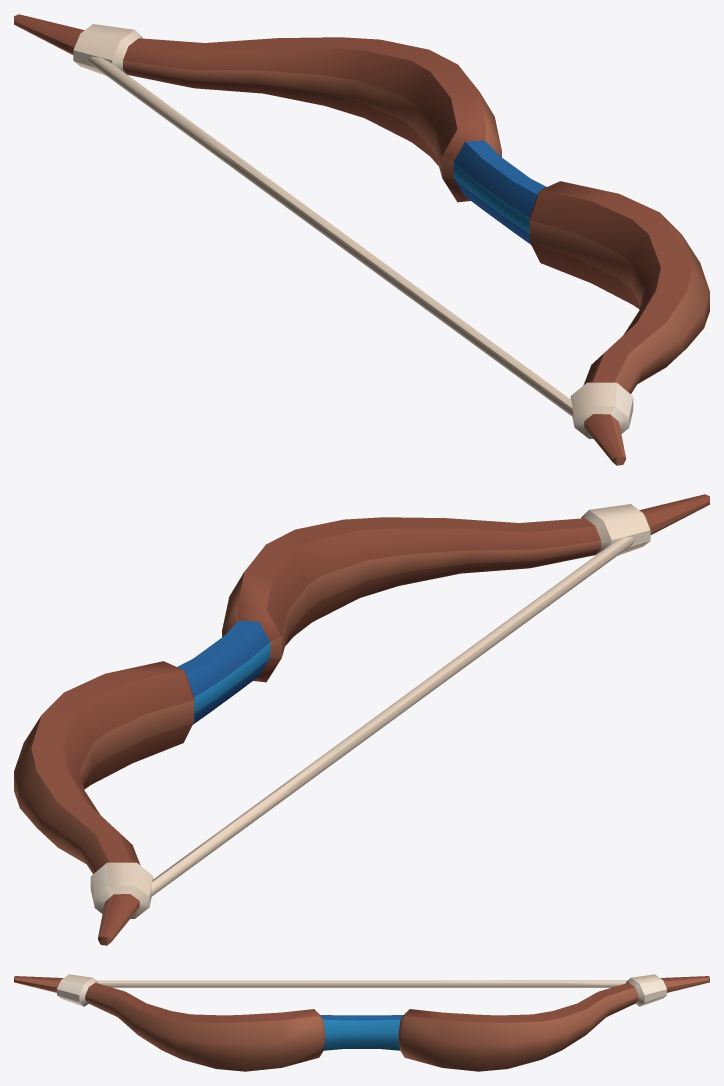
Rendered from w-bow.glb.
The picture shows the model from 3 angles, top to bottom: view 1: azimuth 30°, elevation 25°; view 2: azimuth 150°, elevation 25°; view 3: azimuth 270°, elevation 25°; orthographic projection. The views are drawn at different scales.
Parts seen in each view (by area): view 1: w-bow; view 2: w-bow; view 3: w-bow.
Boxes of the visible parts, x1,y1,x2,y2 form: w-bow: [14, 14, 709, 465]; w-bow: [14, 494, 709, 945]; w-bow: [14, 974, 709, 1071].
Size of the model in its own units: 0.4944 by 0.1556 by 1.98.
Materials: 1 (1 with a texture image).
